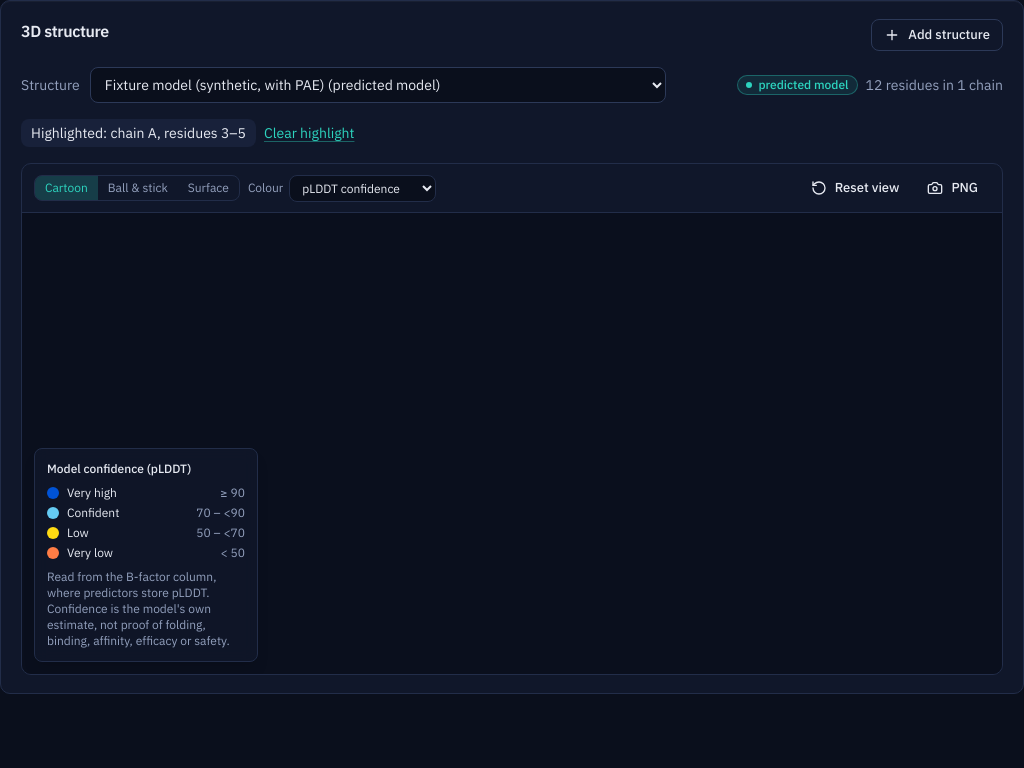
Test case: StructureExplorer › clears a highlight on request
Click the button "Clear highlight": (309, 133) [264,123,354,143]
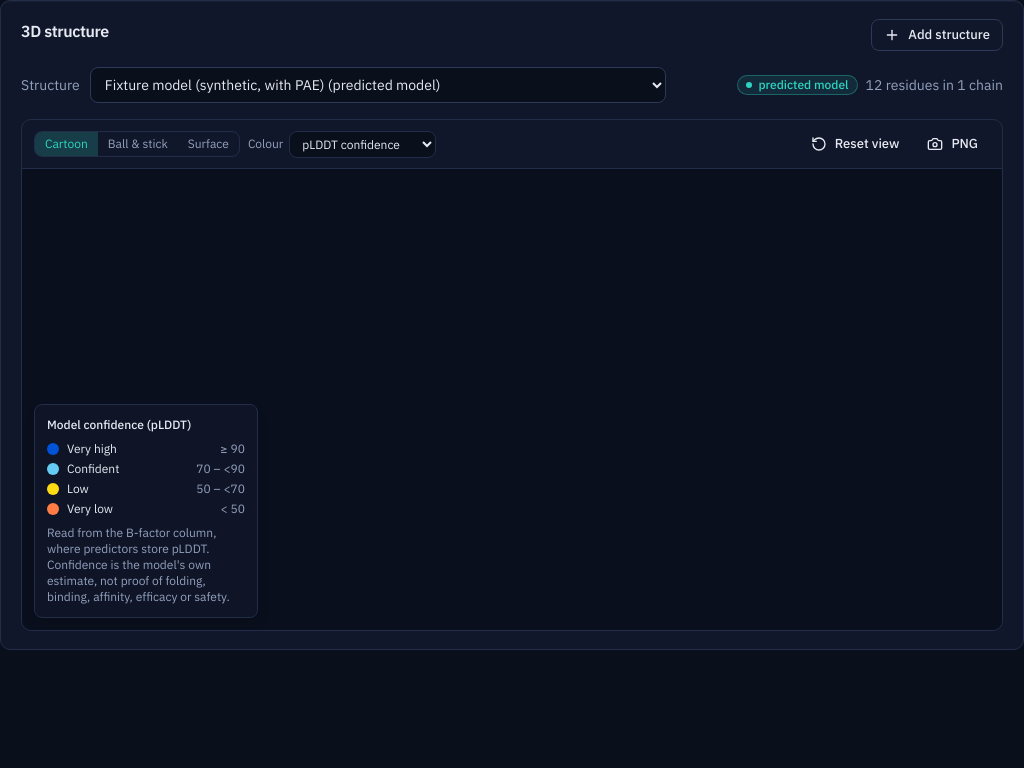
Expected: the text "Highlighted:" is gone
